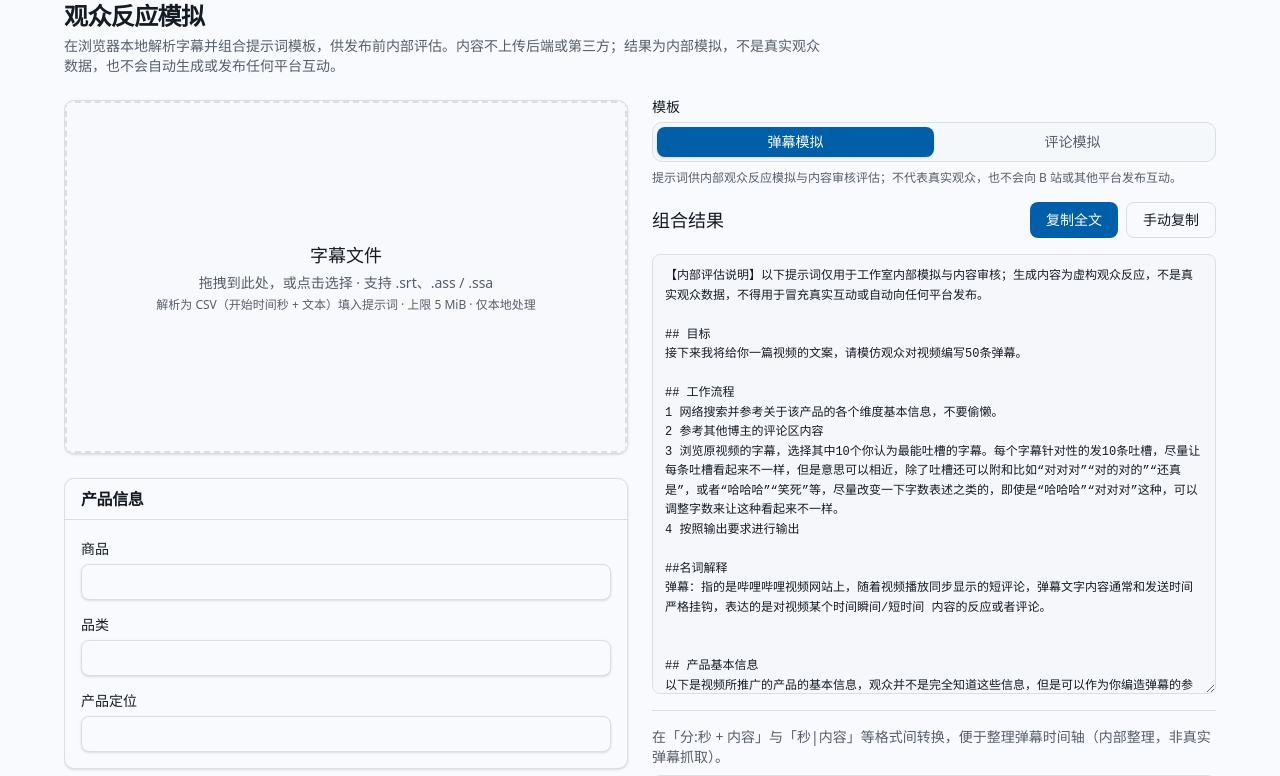
Test: AudienceReactionPage › clear local draft is explicit
In the field labelled "商品": {"x": 346, "y": 582} [81,564,611,600], type "草稿商品"
(page scrolled)
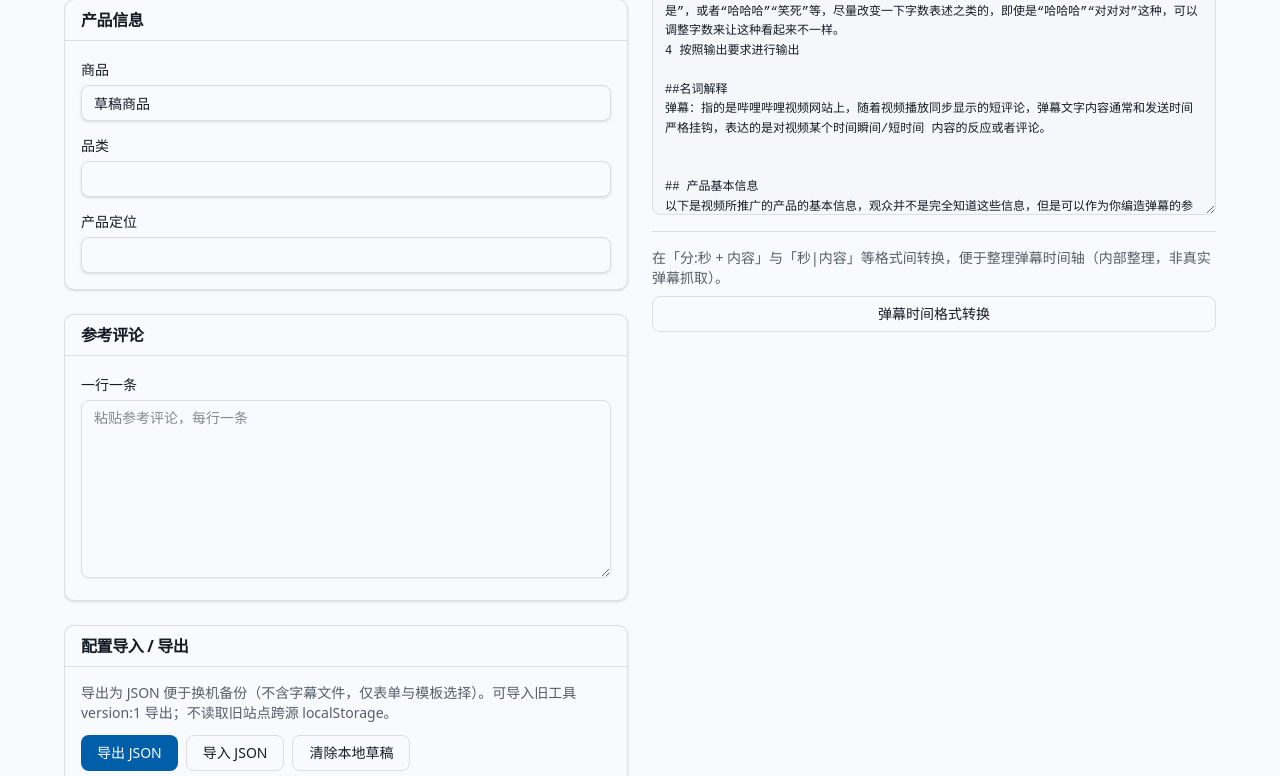
Click the button "清除本地草稿": {"x": 352, "y": 753} [292,735,410,771]
(page scrolled)
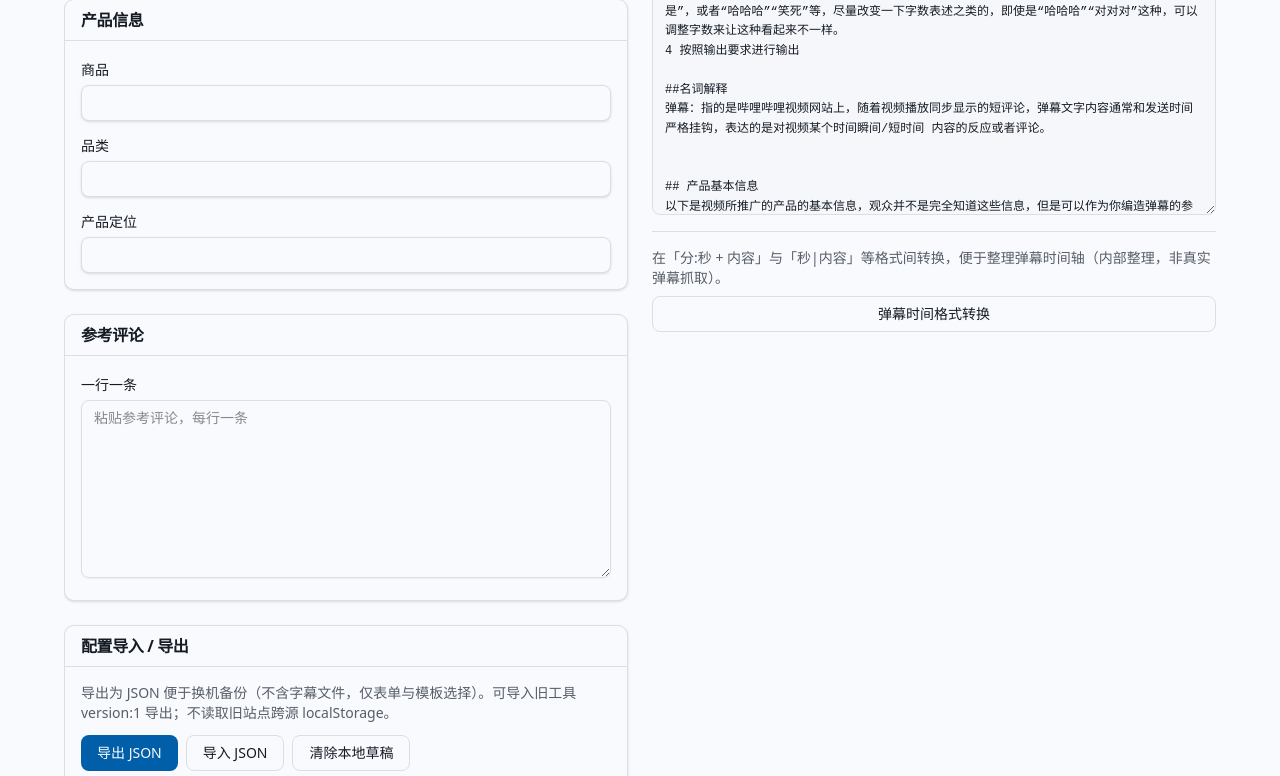
Check: the field labelled "商品" is empty, box [81,85,611,121]
